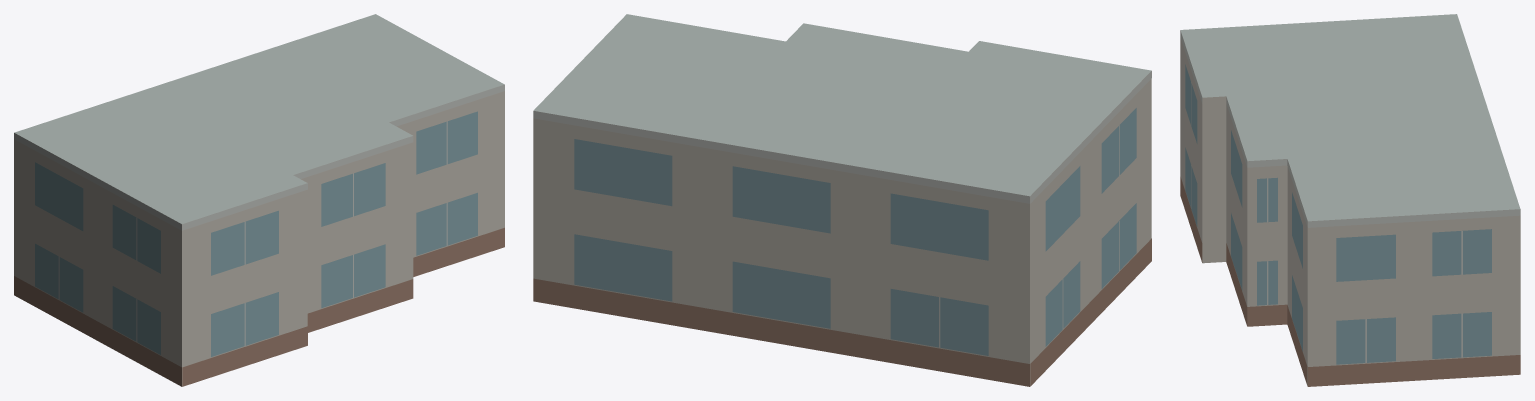
File: survey-upis-33007032.glb
The picture shows the model from 3 angles, left to right: view 1: azimuth 30°, elevation 25°; view 2: azimuth 150°, elevation 25°; view 3: azimuth 270°, elevation 25°; orthographic projection. The views are drawn at different scales.
Parts seen in each view (by area): view 1: survey-upis-33007032.tmp; view 2: survey-upis-33007032.tmp; view 3: survey-upis-33007032.tmp.
Boxes of the visible parts, box(x1,y1,x2,y2) form: survey-upis-33007032.tmp: box(14, 14, 504, 386); survey-upis-33007032.tmp: box(533, 14, 1151, 386); survey-upis-33007032.tmp: box(1180, 14, 1520, 386).
Size of the model in its own units: 16.4 by 6.1 by 11.37.
